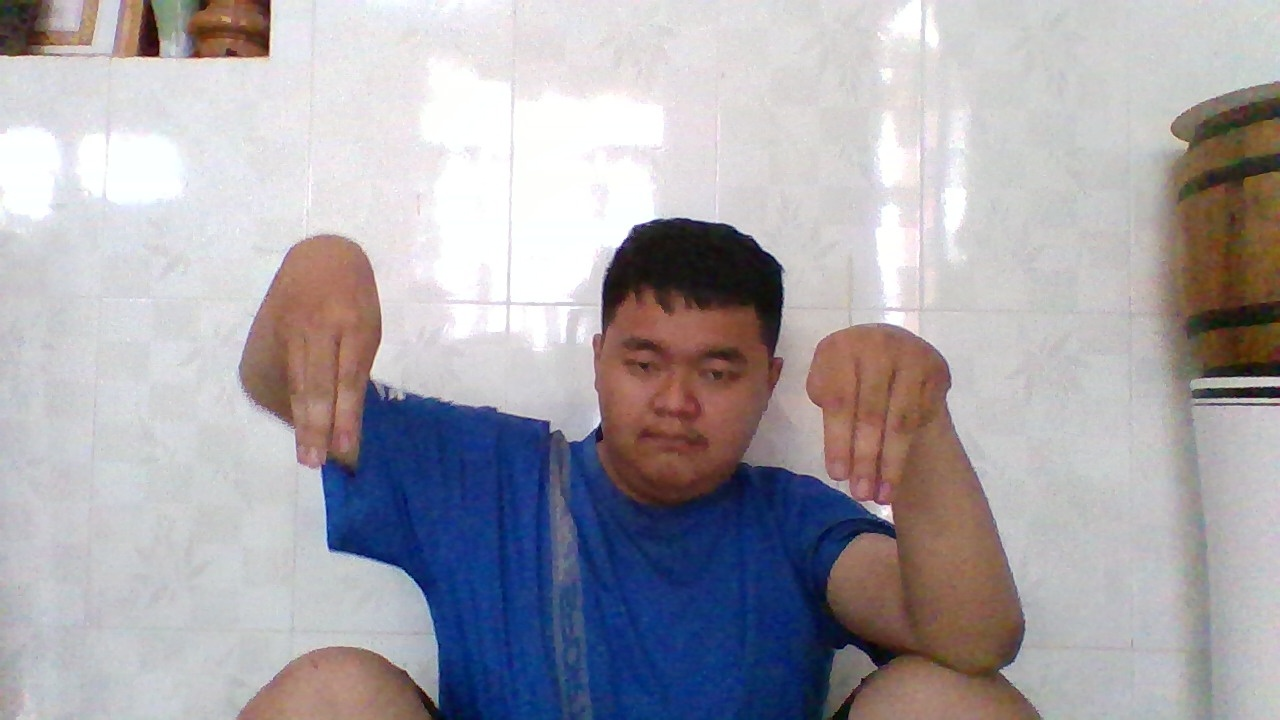M: (259, 240, 387, 483), (807, 319, 958, 517)
